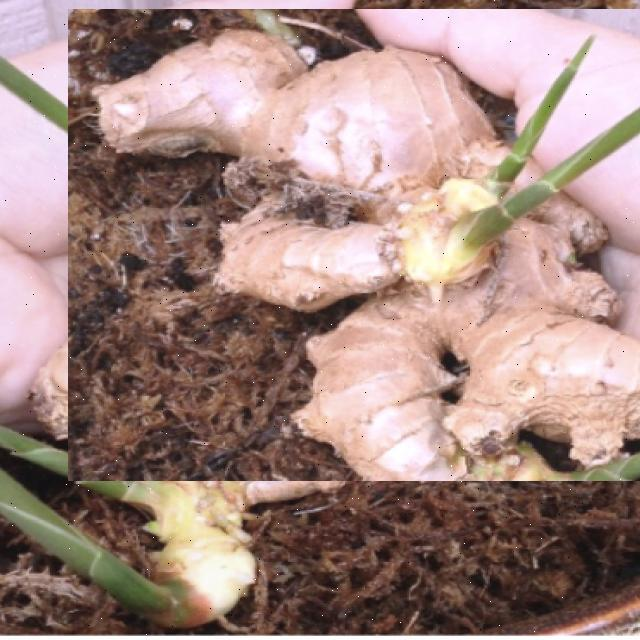ginger: (68, 9, 640, 481)
